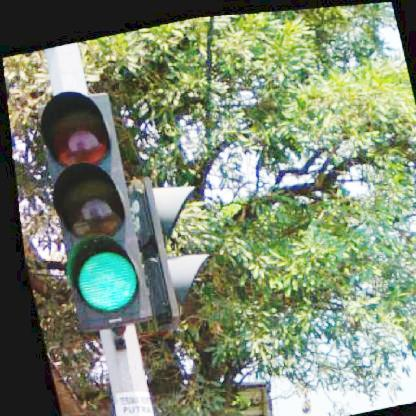Traffic Light -Green-: (28, 84, 150, 330)
